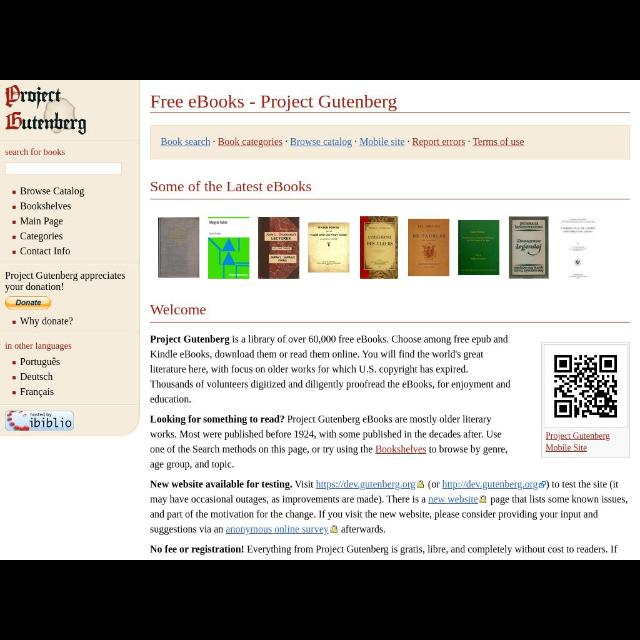icon: (11, 188, 17, 194), (12, 250, 16, 256), (12, 360, 16, 366), (12, 390, 16, 396), (12, 220, 16, 223), (12, 321, 16, 324), (10, 376, 16, 378), (12, 206, 14, 208), (13, 235, 15, 237)
image: (5, 86, 86, 136), (554, 356, 618, 416), (207, 217, 249, 279), (158, 218, 200, 278), (409, 218, 449, 278), (561, 218, 601, 278), (260, 217, 298, 279), (361, 216, 399, 278), (509, 216, 546, 278), (458, 220, 498, 276), (309, 222, 349, 272), (6, 411, 74, 431)
input: (6, 164, 122, 176)
link: (315, 481, 417, 491), (442, 480, 538, 490), (225, 526, 328, 534), (546, 432, 610, 442), (292, 138, 352, 148), (412, 138, 468, 148), (472, 138, 526, 148), (218, 138, 284, 146), (427, 495, 479, 505), (161, 138, 211, 148), (546, 444, 588, 454), (376, 446, 426, 454), (360, 138, 404, 146)
text: (150, 480, 628, 536), (150, 334, 512, 404), (150, 416, 508, 470), (150, 545, 618, 555), (151, 94, 399, 112), (5, 272, 126, 292), (150, 180, 314, 194), (3, 338, 72, 352), (150, 304, 207, 318), (22, 187, 86, 197), (21, 230, 64, 243), (19, 246, 72, 256), (21, 317, 74, 327), (22, 202, 72, 212), (6, 150, 66, 158), (18, 217, 64, 227), (20, 358, 60, 367), (20, 372, 54, 382), (19, 388, 53, 398), (15, 300, 41, 306)
textbutton: (5, 296, 51, 310)
